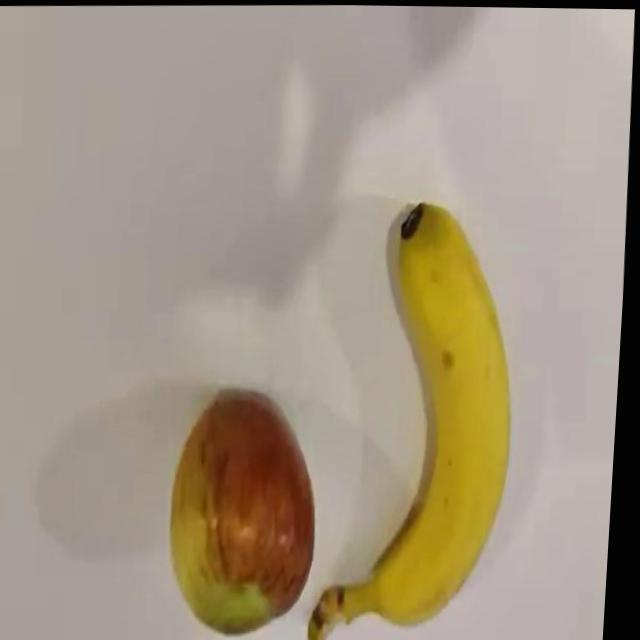Apple: (168, 387, 331, 639)
Banana: (307, 198, 530, 640)
